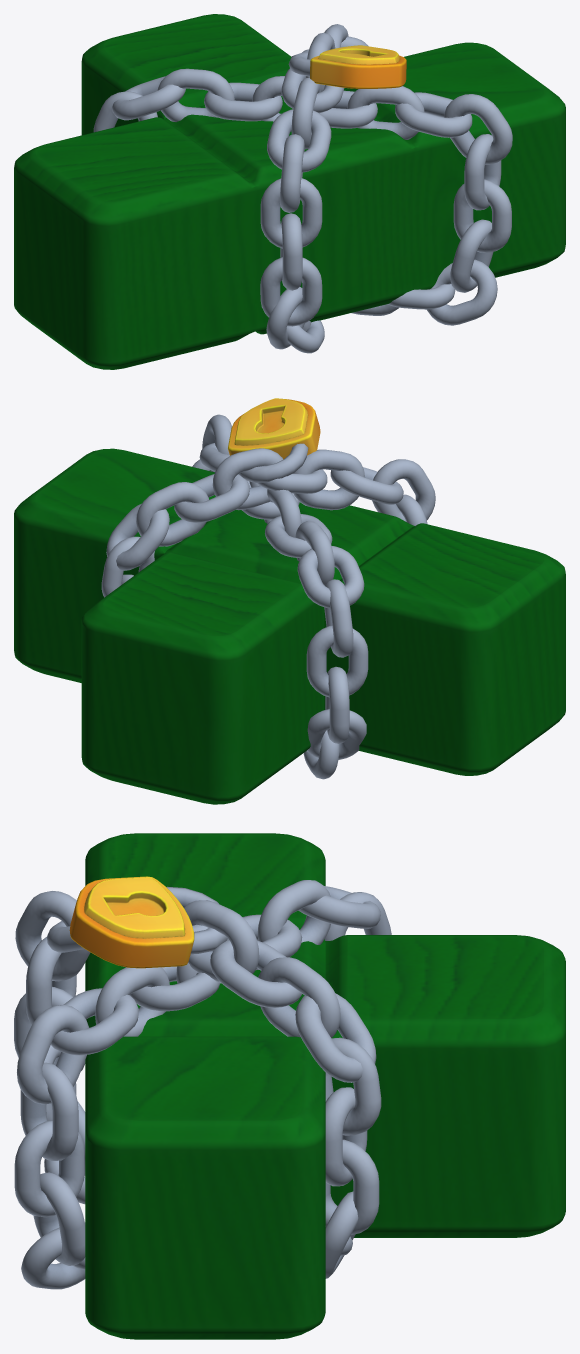
File: Chain_Block_05.fbx
3 renders of one model, top to bottom at view 1: azimuth 30°, elevation 25°; view 2: azimuth 150°, elevation 25°; view 3: azimuth 270°, elevation 25°, orthographic. The views are drawn at different scales.
Visible parts, largest first — view 1: Chain_Block; view 2: Chain_Block; view 3: Chain_Block.
Boxes of the visible parts, bbox=[...] form: Chain_Block: bbox=[14, 14, 565, 369]; Chain_Block: bbox=[14, 398, 565, 804]; Chain_Block: bbox=[14, 833, 565, 1339].
Size of the model in its own units: 3 by 1.7 by 2.3.
2 materials, 2 textured.
